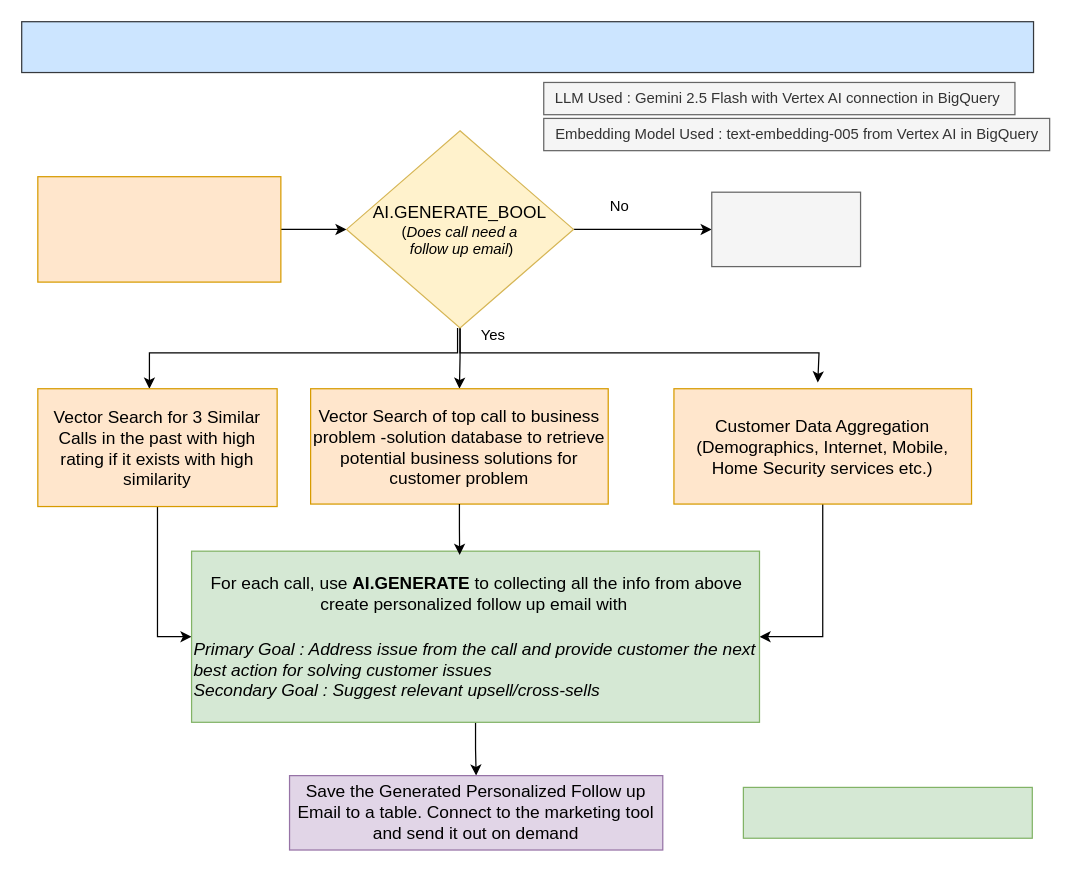
Image size: 1071x872. Some labels were removed from this diagram. The box of each missing label's shape, as (x1, y1, x2, y2) in pixels:
Action 1 : Automated Follow Up/ Next Best Action Email for required Calls: (20, 20, 1034, 73)
Call Transcripts filtered as of requirement ( weekly in below query ): (37, 175, 281, 282)
Estimated 23K$ savings per week for a company with 100K customers: (742, 786, 1032, 838)
No Email for this call. Dropped from further processes: (711, 191, 861, 267)
